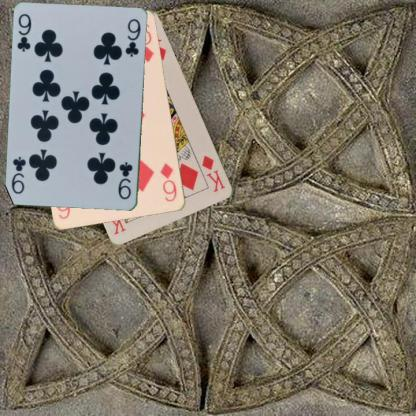6d: (158, 160, 178, 204)
9c: (116, 160, 134, 201), (15, 12, 33, 53)
Kd: (199, 152, 226, 194)
